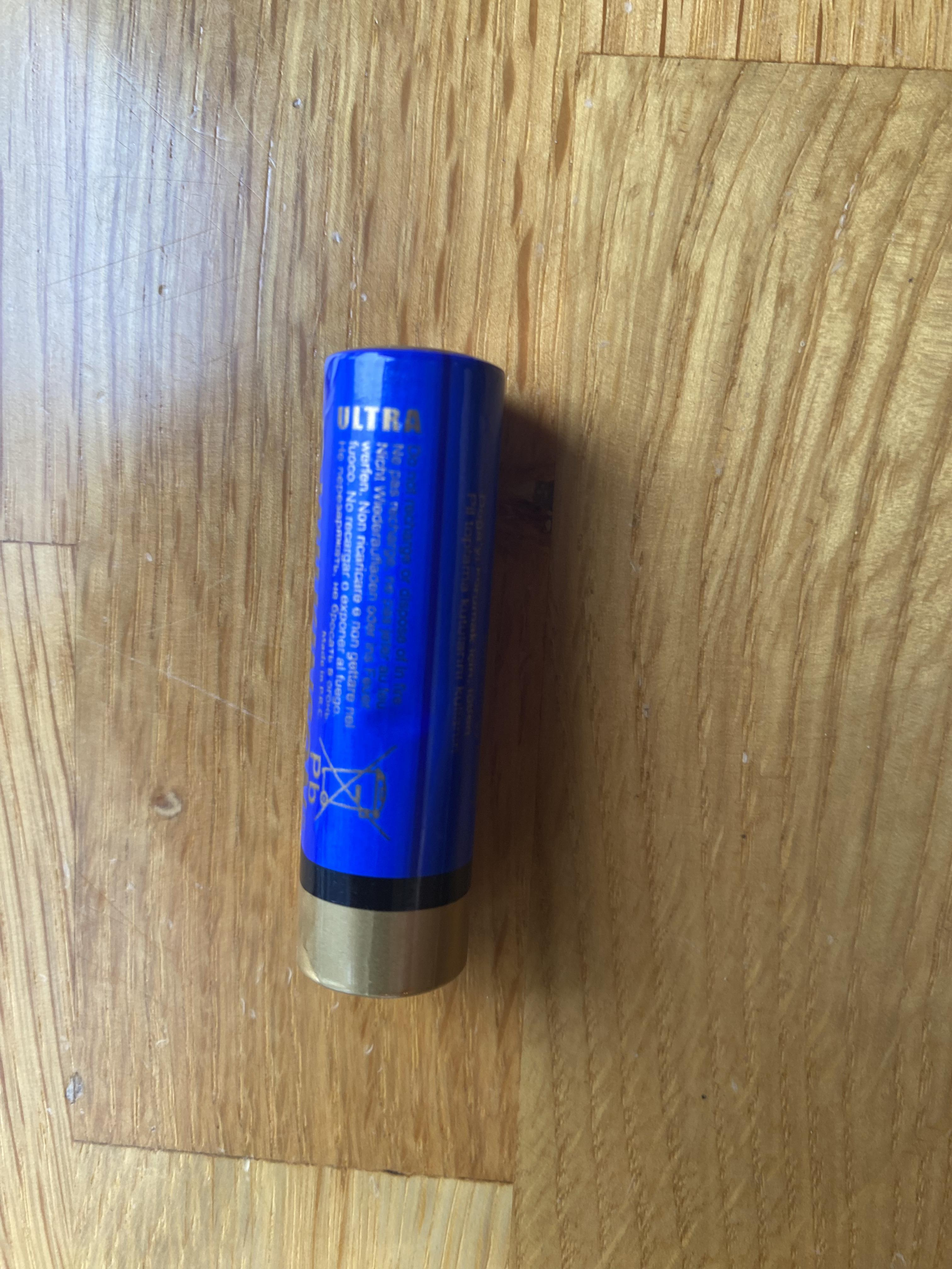AA: (296, 345, 506, 997)
